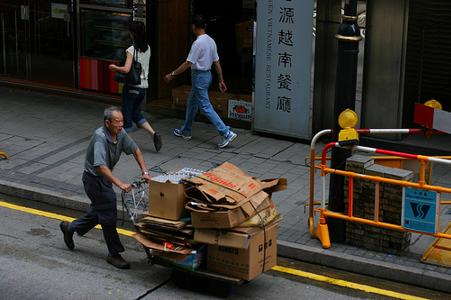person: (57, 103, 150, 273)
